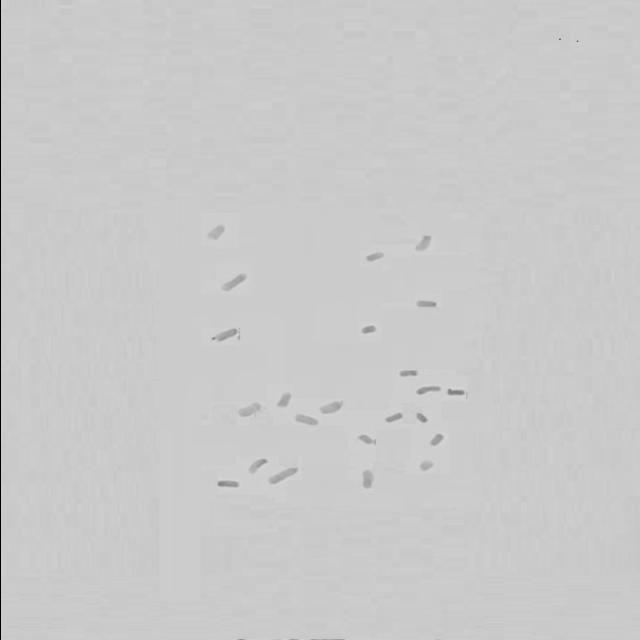E-coli: (218, 274, 252, 294), (271, 467, 299, 487), (318, 398, 344, 416), (204, 224, 231, 240), (235, 404, 265, 418), (211, 328, 241, 342), (355, 321, 385, 335), (244, 454, 267, 472), (357, 467, 375, 489), (414, 295, 436, 313), (393, 368, 425, 380), (413, 385, 441, 398), (213, 478, 243, 490), (416, 233, 434, 253), (412, 461, 438, 474), (364, 251, 389, 264), (276, 390, 292, 410), (383, 411, 405, 425), (426, 432, 446, 447), (358, 431, 376, 446), (446, 387, 469, 398), (294, 416, 317, 426), (410, 411, 430, 421)
